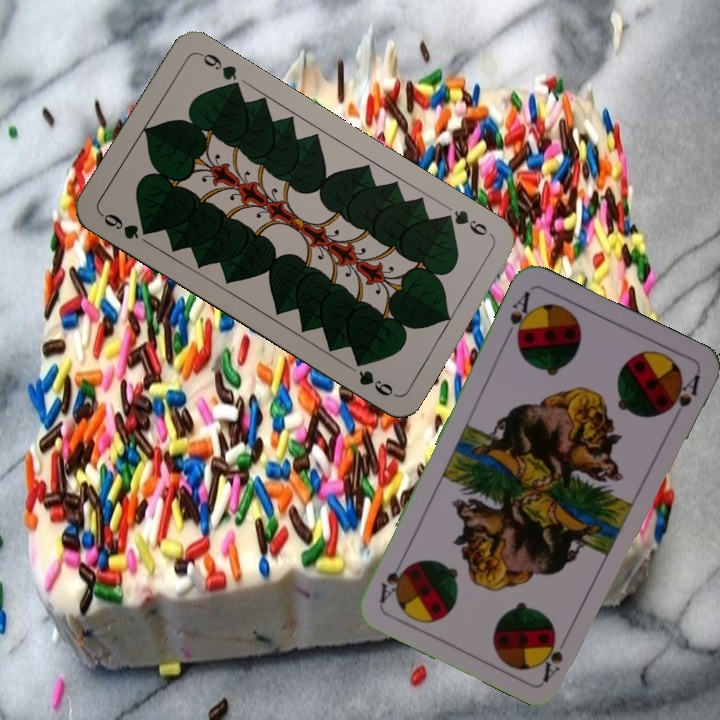G9: (437, 201, 495, 240), (96, 209, 155, 242)
SA: (501, 287, 536, 346), (538, 636, 566, 684)
